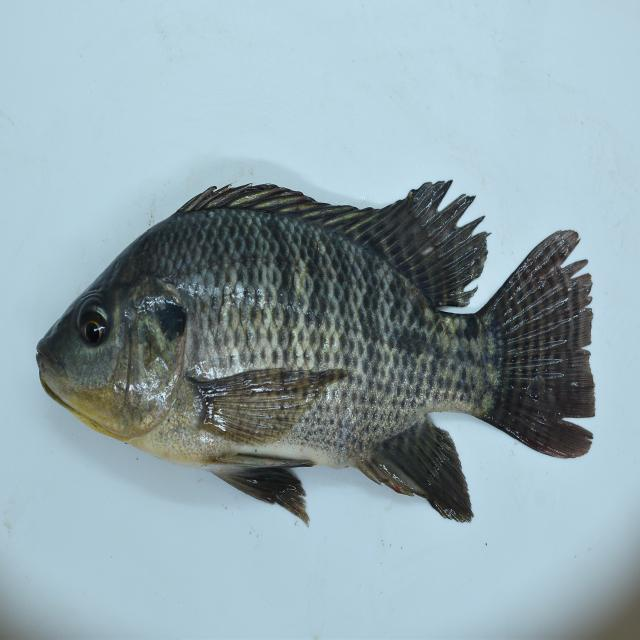Healthy Fish: (34, 170, 596, 526)
